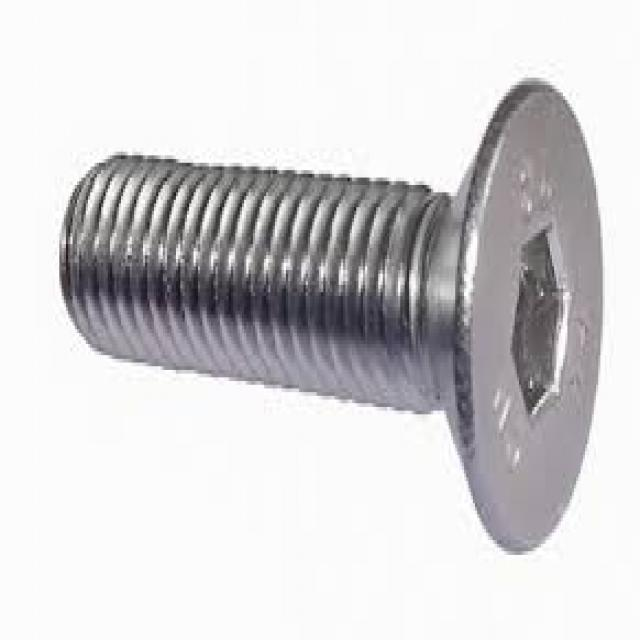Screw: (57, 81, 605, 555)
